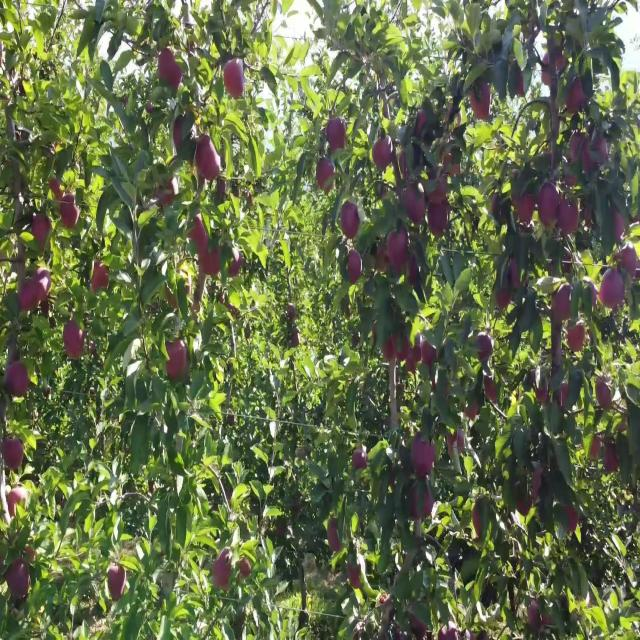apple: (196, 135, 221, 183), (164, 341, 190, 382), (600, 270, 626, 311), (540, 49, 568, 87), (404, 184, 427, 226), (8, 561, 32, 601), (428, 199, 451, 240), (64, 319, 85, 363), (412, 440, 436, 478), (540, 184, 560, 229), (8, 362, 32, 398), (588, 135, 611, 172), (552, 284, 572, 325), (160, 49, 180, 89), (388, 227, 409, 265), (224, 63, 245, 100), (32, 213, 52, 251), (568, 78, 588, 116), (188, 213, 208, 251), (372, 135, 393, 171), (212, 554, 233, 590), (560, 199, 580, 236), (516, 191, 537, 226), (340, 206, 360, 242), (472, 85, 492, 121), (108, 568, 128, 603), (60, 199, 80, 233), (428, 170, 448, 204), (172, 113, 189, 153), (328, 120, 348, 153), (412, 490, 433, 521), (200, 248, 222, 277), (4, 440, 24, 471), (316, 163, 336, 194), (620, 248, 640, 279), (596, 376, 613, 412), (552, 49, 569, 84), (512, 255, 528, 292), (348, 248, 364, 284), (604, 440, 620, 476), (92, 263, 111, 293), (168, 56, 184, 91), (8, 490, 27, 519), (328, 519, 343, 555), (160, 177, 177, 208), (568, 327, 586, 356), (20, 284, 38, 313), (520, 14, 539, 41), (444, 149, 460, 180), (476, 334, 493, 363), (612, 213, 627, 244), (36, 270, 52, 299), (564, 504, 580, 533), (228, 248, 244, 277), (492, 191, 506, 224), (48, 177, 65, 203), (408, 341, 421, 375), (572, 135, 587, 164), (444, 106, 460, 133), (348, 561, 362, 590), (396, 334, 410, 363), (472, 504, 483, 539), (448, 433, 464, 457), (484, 376, 497, 405), (172, 120, 184, 151), (464, 398, 480, 421), (376, 248, 390, 274), (352, 447, 368, 469), (532, 469, 543, 501), (424, 341, 437, 368), (408, 341, 421, 368), (408, 255, 419, 286), (496, 291, 513, 311), (588, 284, 600, 311), (592, 433, 603, 462), (412, 618, 427, 639), (528, 604, 540, 628), (400, 149, 409, 181), (416, 113, 428, 135), (516, 71, 525, 100), (560, 383, 569, 411), (564, 170, 578, 188), (384, 341, 395, 363), (520, 497, 532, 517), (564, 255, 574, 277), (40, 298, 51, 318), (240, 561, 252, 578), (24, 547, 36, 564), (536, 391, 549, 405), (544, 611, 554, 626), (288, 305, 296, 320), (292, 334, 300, 348), (392, 469, 396, 491)
